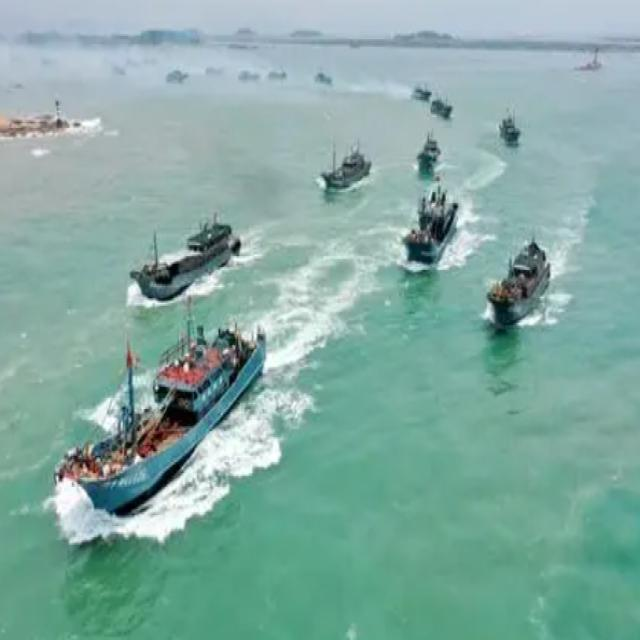fishing boat: (56, 314, 270, 506), (131, 202, 236, 302), (482, 237, 554, 327), (402, 181, 464, 266), (315, 135, 370, 187), (497, 108, 523, 147), (417, 136, 442, 175), (425, 97, 460, 120), (574, 44, 604, 70), (164, 66, 190, 84), (236, 69, 262, 86), (310, 68, 335, 84), (410, 84, 436, 98), (269, 67, 291, 80), (202, 64, 227, 74)
